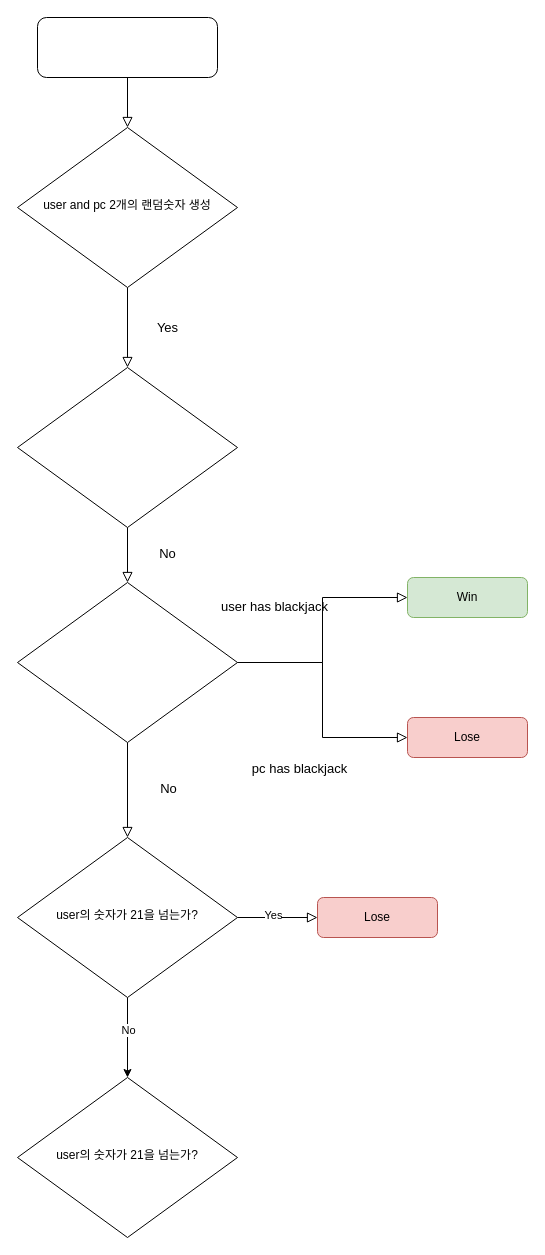
Image size: 545x1255. Some labels were removed from this diagram. Each missing label, with the centre of its shape:
"start" goes at (127,47).
"user 2개 pc 1개 노출" goes at (127,447).
"user와 pc 사이에 blackjack이 있는가? (ace + 10)" goes at (127,662).
